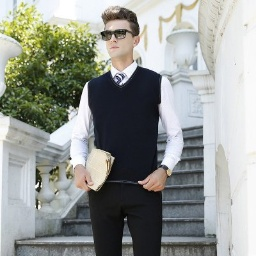face: (100, 5, 141, 59)
